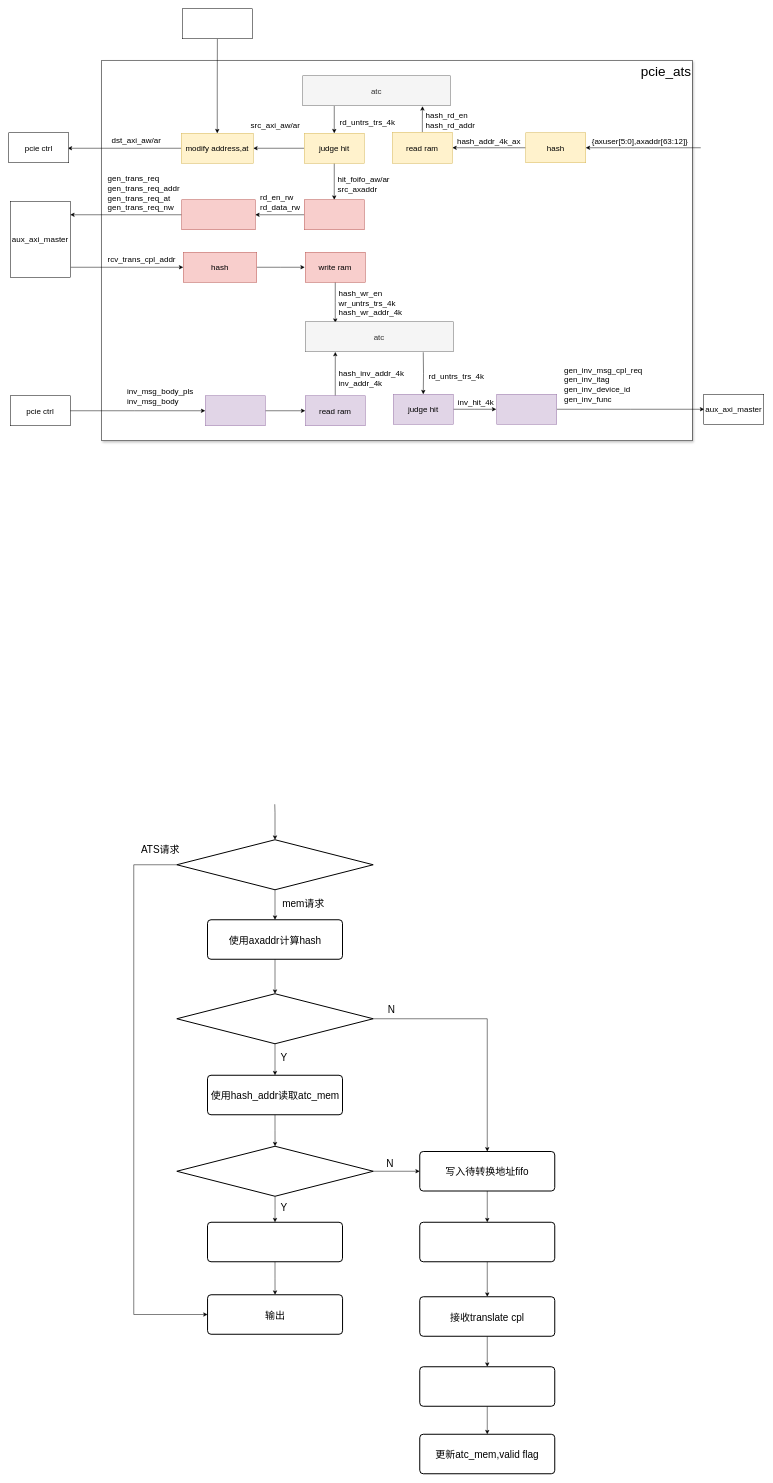
The diagram is 773 pixels wide and 1483 high, and some of its shapes have lost their labels. The centre of each missing label's shape, as x and y in pixels:
axi256_2m1s: the point at 217,23
gen translate req: the point at 218,214
hash_addr是否有valid flag？: the point at 274,1018
inv_fifo: the point at 235,410
modify valid flag send invalid cpl: the point at 526,409
wr_fifo: the point at 334,214
产生translate req: the point at 487,1242
依据axid[12]判断是mem请求 还是ats请求？: the point at 274,864
修改axaddr: the point at 275,1242
计算hash: the point at 487,1386
读出数据中的未转换地址是否 与请求地址相同？: the point at 275,1171
